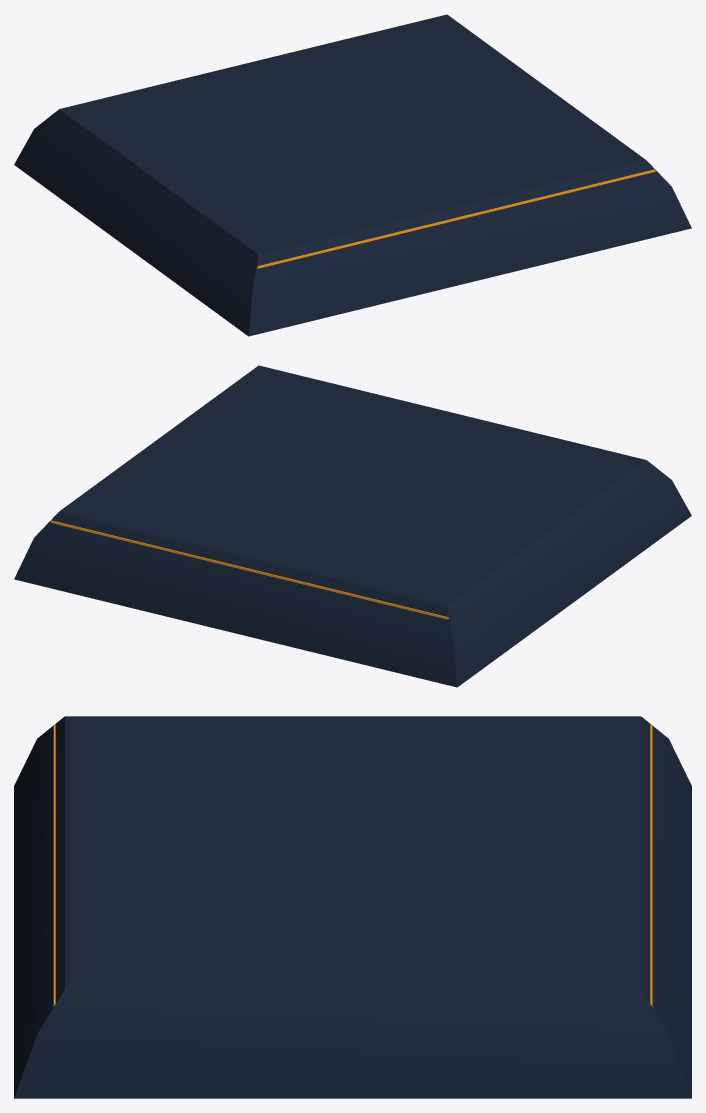
Rendered from Pedestal.glb.
3 views of the same model, one above another, from view 1: azimuth 30°, elevation 25°; view 2: azimuth 150°, elevation 25°; view 3: azimuth 270°, elevation 25° (orthographic). The views are drawn at different scales.
Visible parts, largest first — view 1: industrial_base, warning_band; view 2: industrial_base, warning_band; view 3: industrial_base, warning_band.
Part boxes in pixels (bbox=[...]): industrial_base: bbox=[14, 14, 691, 336]; warning_band: bbox=[51, 115, 655, 268]; industrial_base: bbox=[14, 365, 691, 687]; warning_band: bbox=[50, 466, 654, 619]; industrial_base: bbox=[14, 716, 691, 1098]; warning_band: bbox=[53, 724, 652, 1006].
Bounding box in the file's own units: 4.8 × 0.64 × 4.4.
